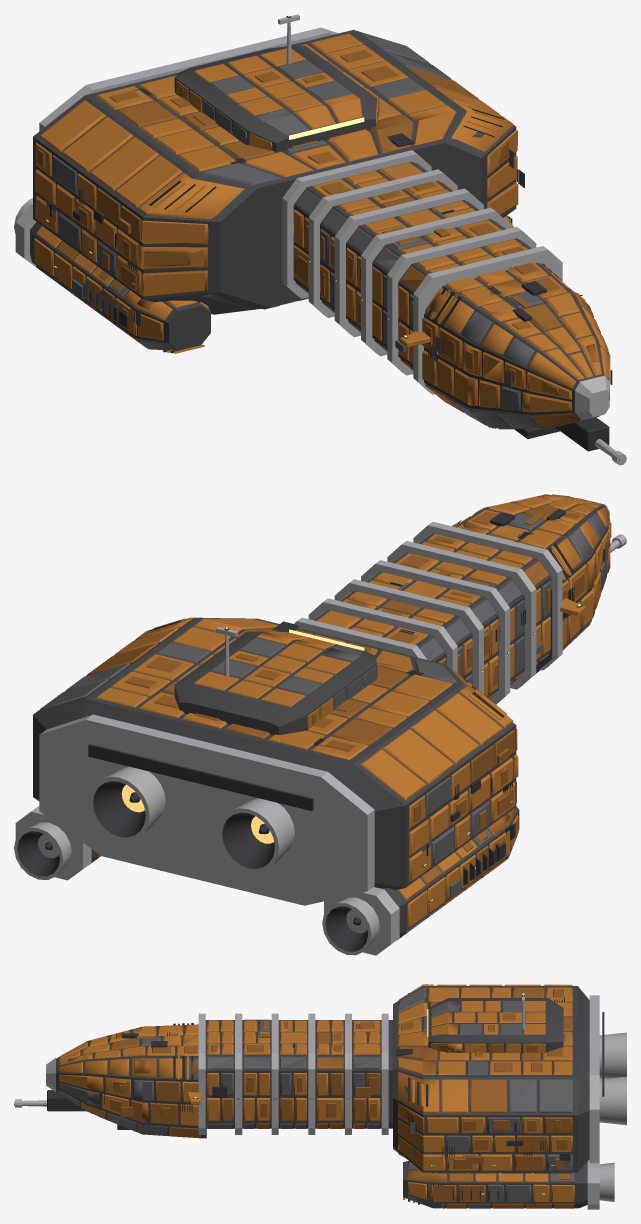
File: enemy_frigate_lod.glb
3 views of the same model, one above another, from view 1: azimuth 30°, elevation 25°; view 2: azimuth 150°, elevation 25°; view 3: azimuth 270°, elevation 25° (orthographic). The views are drawn at different scales.
Visible parts, largest first — view 1: enemy_frigate; view 2: enemy_frigate; view 3: enemy_frigate.
Part boxes in pixels (<box>): enemy_frigate: <box>14,14,626,465</box>; enemy_frigate: <box>14,494,626,955</box>; enemy_frigate: <box>14,984,626,1209</box>.
Bounding box in the file's own units: 30.9 × 18.56 × 61.12.
